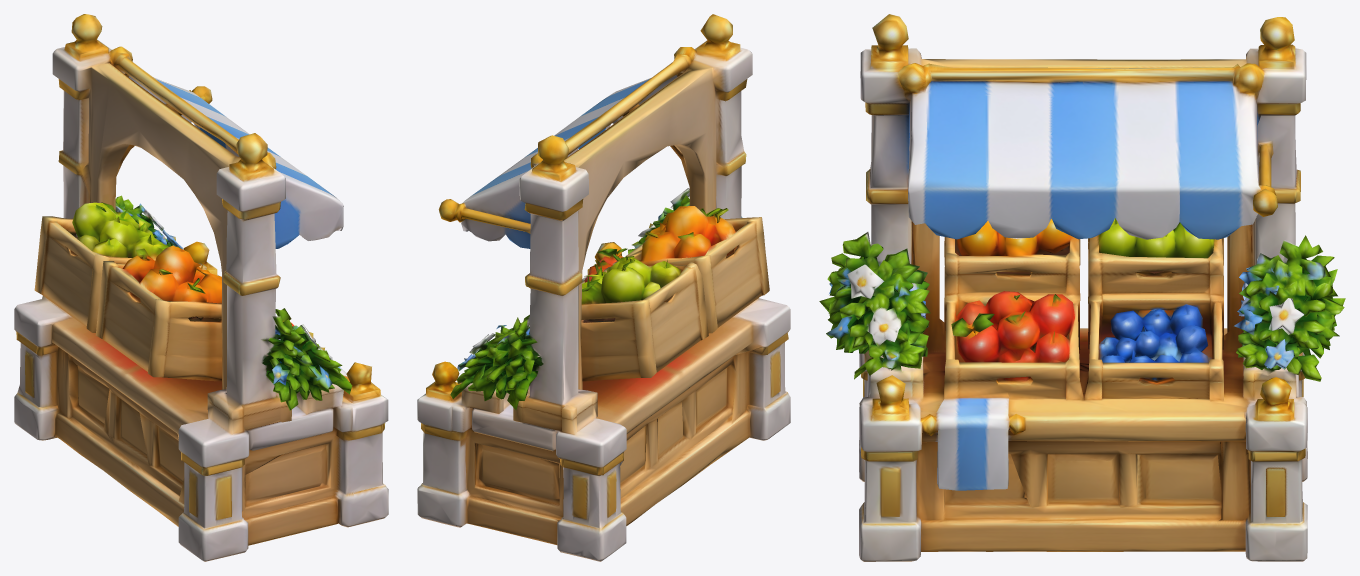
The model's file is HaloReasonHQ_FruitStall_HD_src.glb.
The picture shows the model from 3 angles, left to right: view 1: azimuth 30°, elevation 25°; view 2: azimuth 150°, elevation 25°; view 3: azimuth 270°, elevation 25°; orthographic projection. The views are drawn at different scales.
Parts seen in each view (by area): view 1: tripo_node_f4907cd4-7928-4940-8444-315420458755; view 2: tripo_node_f4907cd4-7928-4940-8444-315420458755; view 3: tripo_node_f4907cd4-7928-4940-8444-315420458755.
Part boxes in pixels (x1,y1,x2,y2): tripo_node_f4907cd4-7928-4940-8444-315420458755: [14, 14, 388, 561]; tripo_node_f4907cd4-7928-4940-8444-315420458755: [417, 14, 790, 561]; tripo_node_f4907cd4-7928-4940-8444-315420458755: [819, 14, 1345, 561].
Bounding box in the file's own units: 0.5089 × 0.9801 × 0.983.
Materials: 1 (1 with a texture image).
